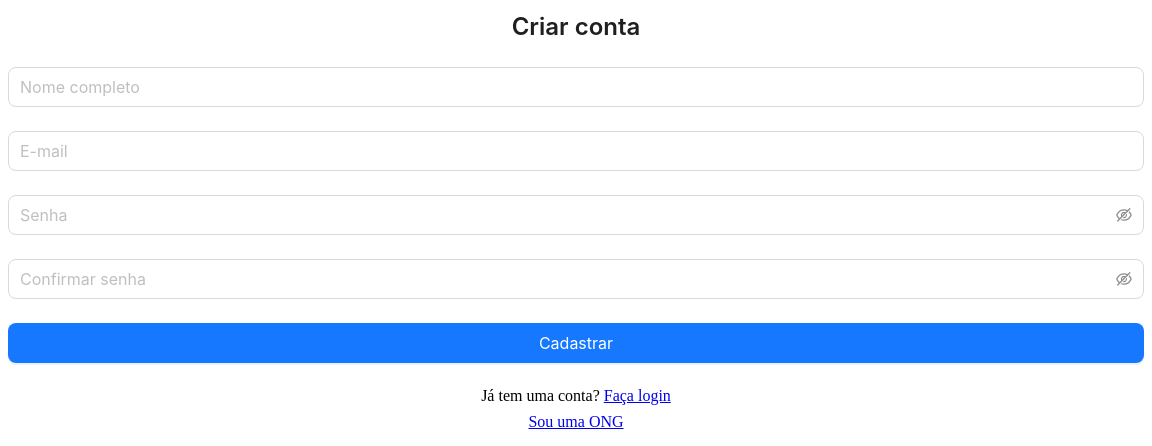
Scenario: RegisterAdopterPage › should show validation error for mismatched passwords
The image size is (1152, 446).
Type "João Silva" into the field with placeholder "Nome completo" at point(576, 87), box [8, 67, 1144, 107]
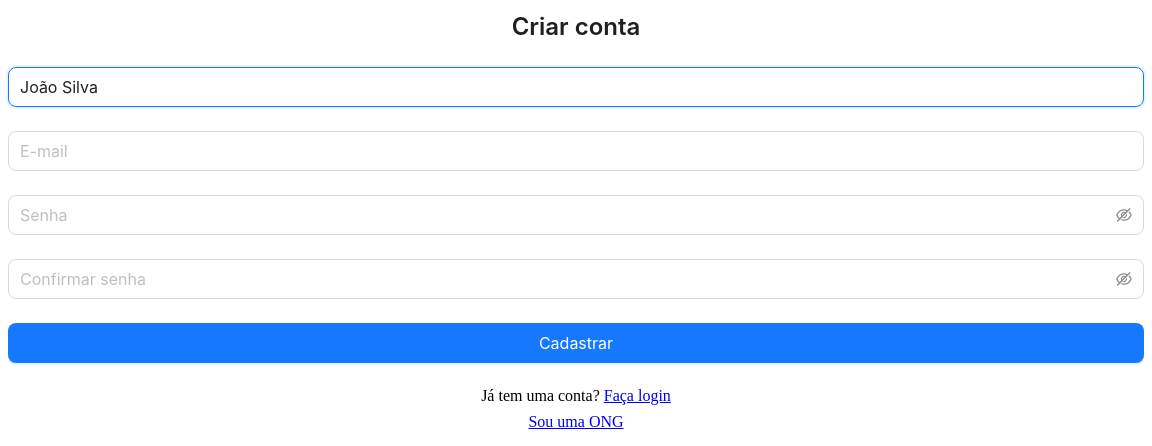
Type "joao@email.com" into the field with placeholder "E-mail" at point(576, 151), box [8, 131, 1144, 171]
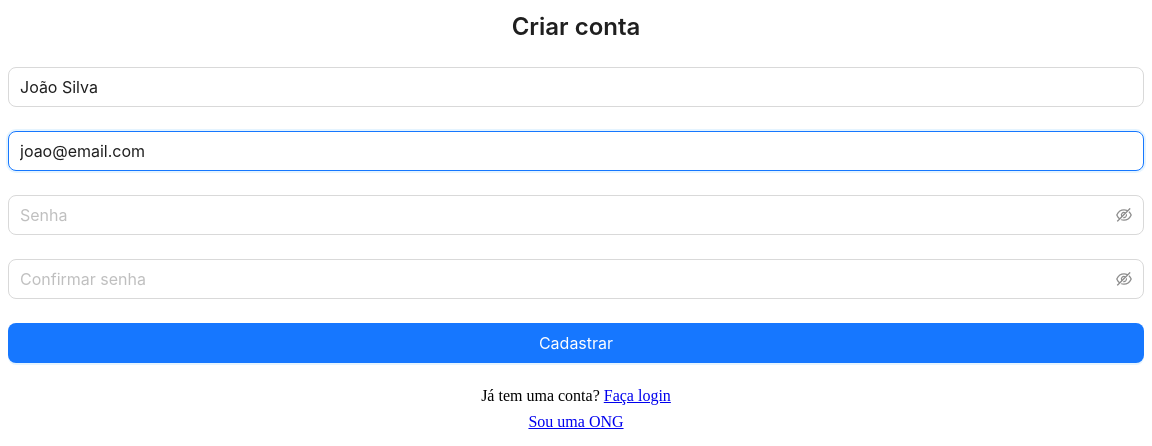
Type "Test@123" into the password field with placeholder "Senha" at point(566, 215), box [20, 203, 1112, 227]
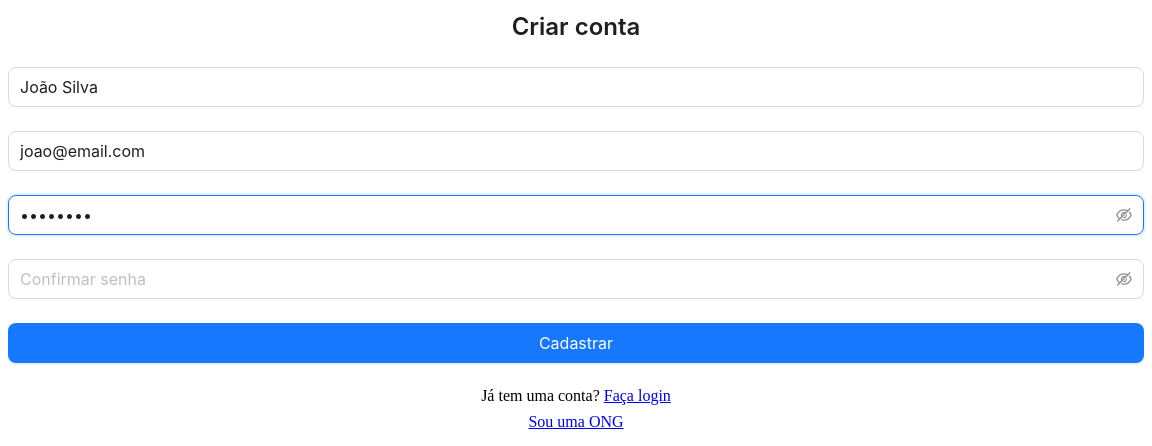
Type "Different@1" into the password field with placeholder "Confirmar senha" at point(566, 279), box [20, 267, 1112, 291]
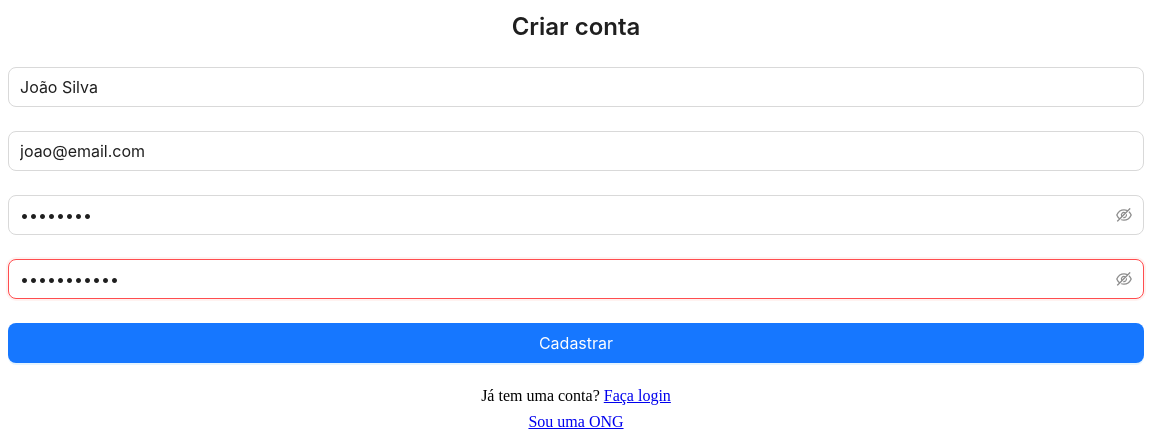
Click the button "Cadastrar" at point(576, 343), box [8, 323, 1144, 363]
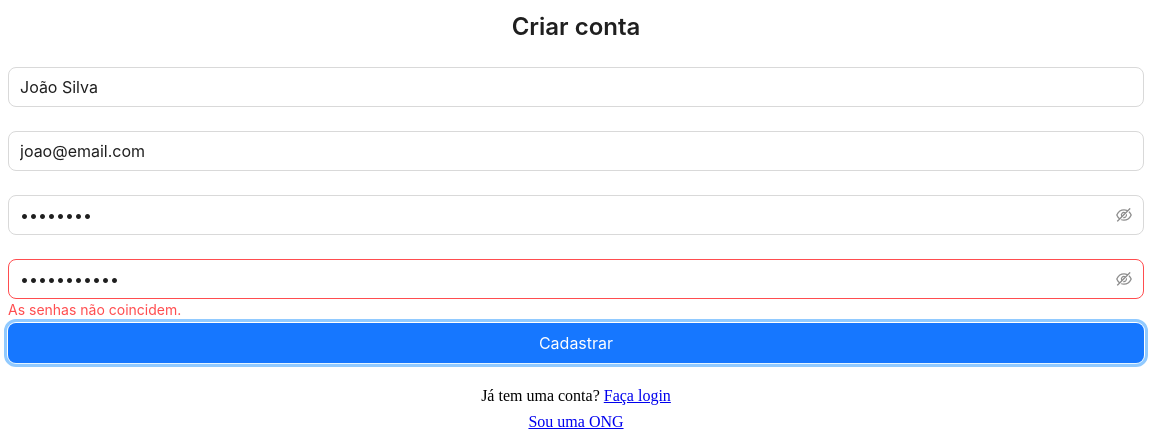
Expected: the text "As senhas não coincidem." is shown, [8, 301, 181, 318]
